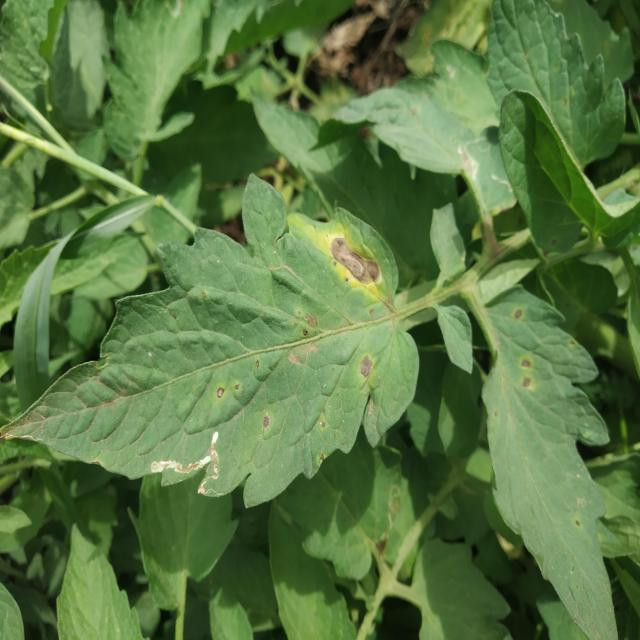Early Blight: (130, 0, 469, 421), (0, 482, 353, 620)
